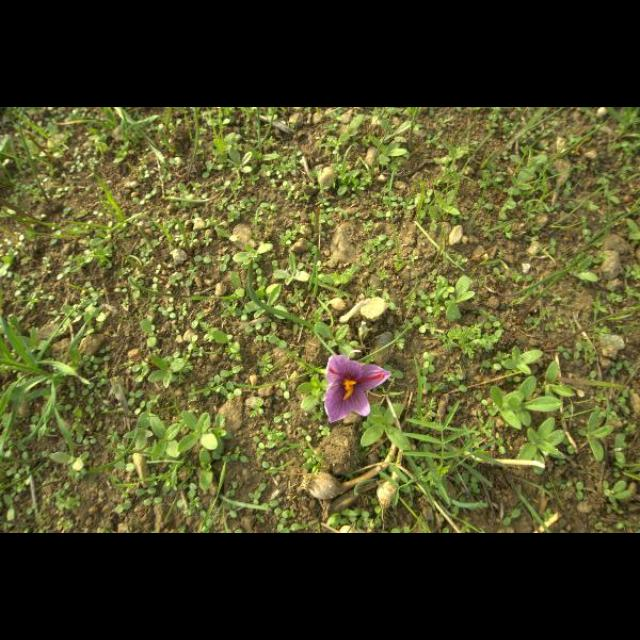flower: (324, 356, 390, 424)
